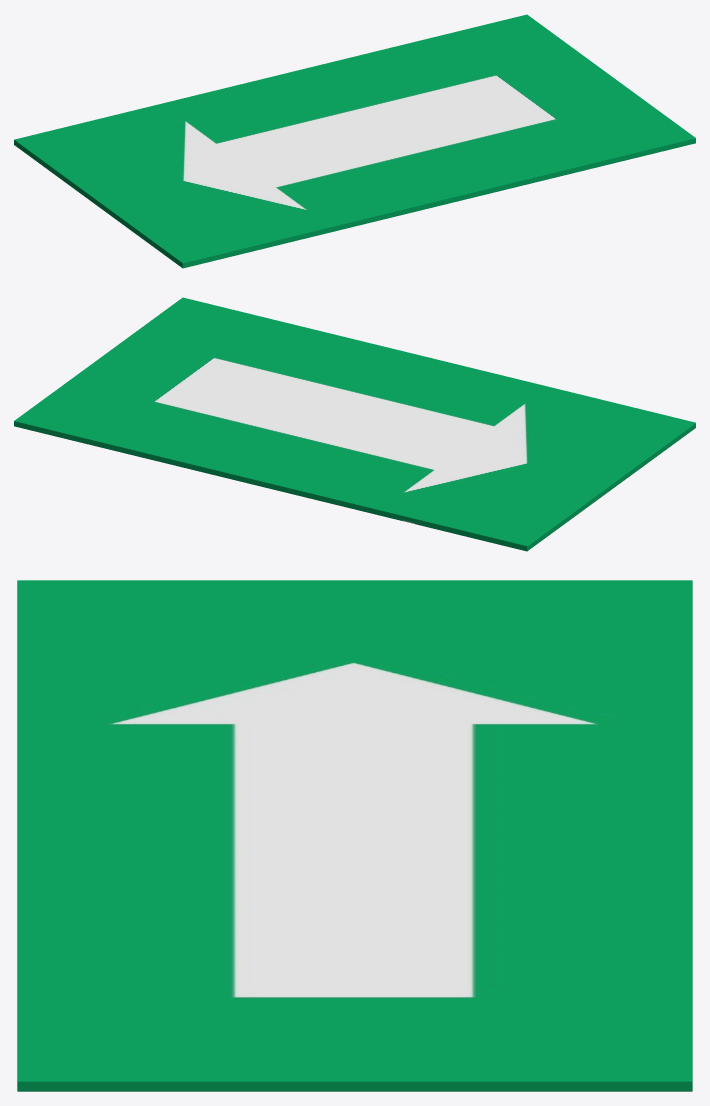
Rendered from modelo_cartel_verde_flecha.obj.
3 renders of one model, top to bottom at view 1: azimuth 30°, elevation 25°; view 2: azimuth 150°, elevation 25°; view 3: azimuth 270°, elevation 25°, orthographic. The views are drawn at different scales.
Visible parts, largest first — view 1: painting_Material.007; view 2: painting_Material.007; view 3: painting_Material.007.
Boxes of the visible parts, x1,y1,x2,y2 form: painting_Material.007: [14, 14, 695, 268]; painting_Material.007: [14, 297, 695, 551]; painting_Material.007: [17, 580, 692, 1091].
Bounding box in the file's own units: 0.3346 × 0.00339 × 0.1905.
Materials: 1 (1 with a texture image).
